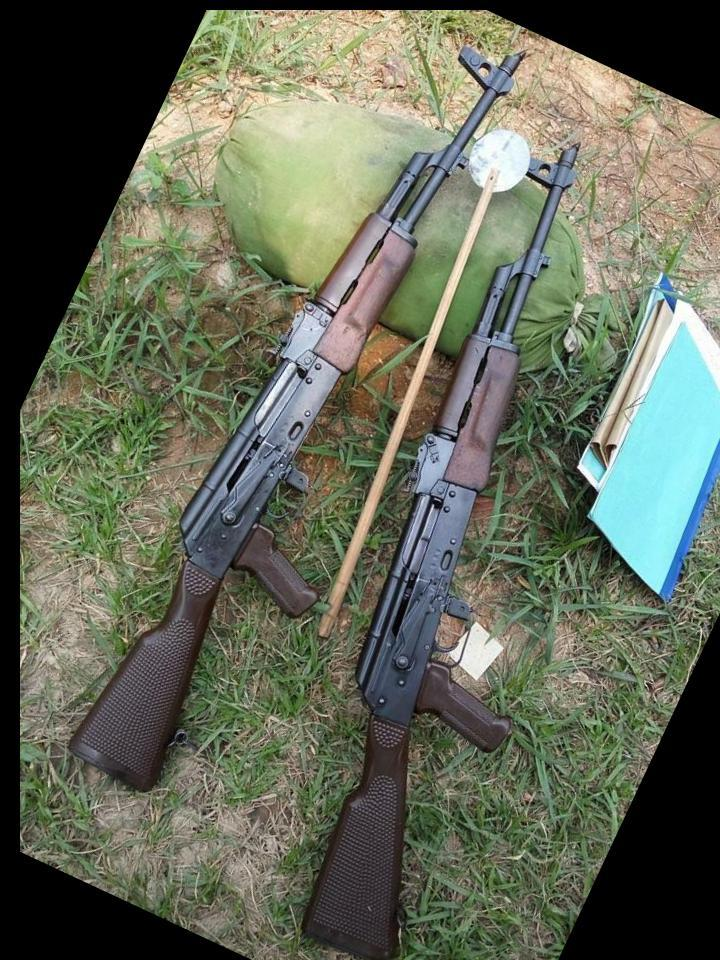larga: (66, 46, 526, 796), (296, 138, 589, 960)
